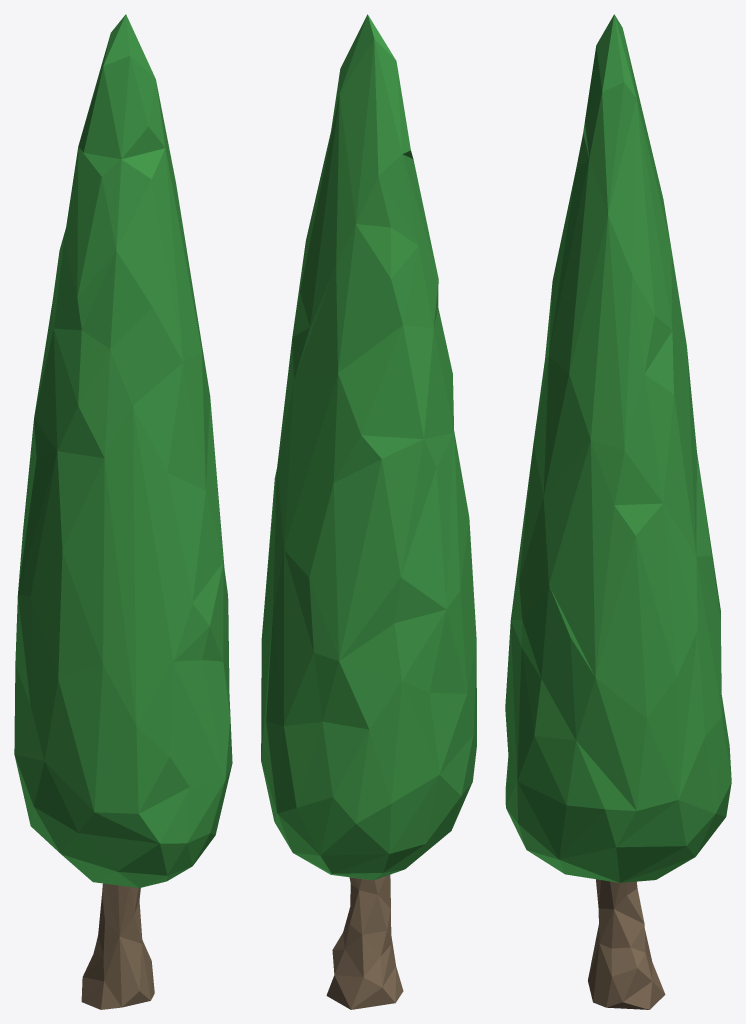
File: pine_m.FBX
3 renders of one model, left to right at view 1: azimuth 30°, elevation 25°; view 2: azimuth 150°, elevation 25°; view 3: azimuth 270°, elevation 25°, orthographic.
Visible parts, largest first — view 1: pine_m; view 2: pine_m; view 3: pine_m.
Boxes of the visible parts, box(x1,y1,x2,y2) form: pine_m: box(14, 14, 232, 1009); pine_m: box(261, 14, 476, 1009); pine_m: box(505, 14, 731, 1009).
Size of the model in its own units: 3.18 by 15.68 by 3.27.
